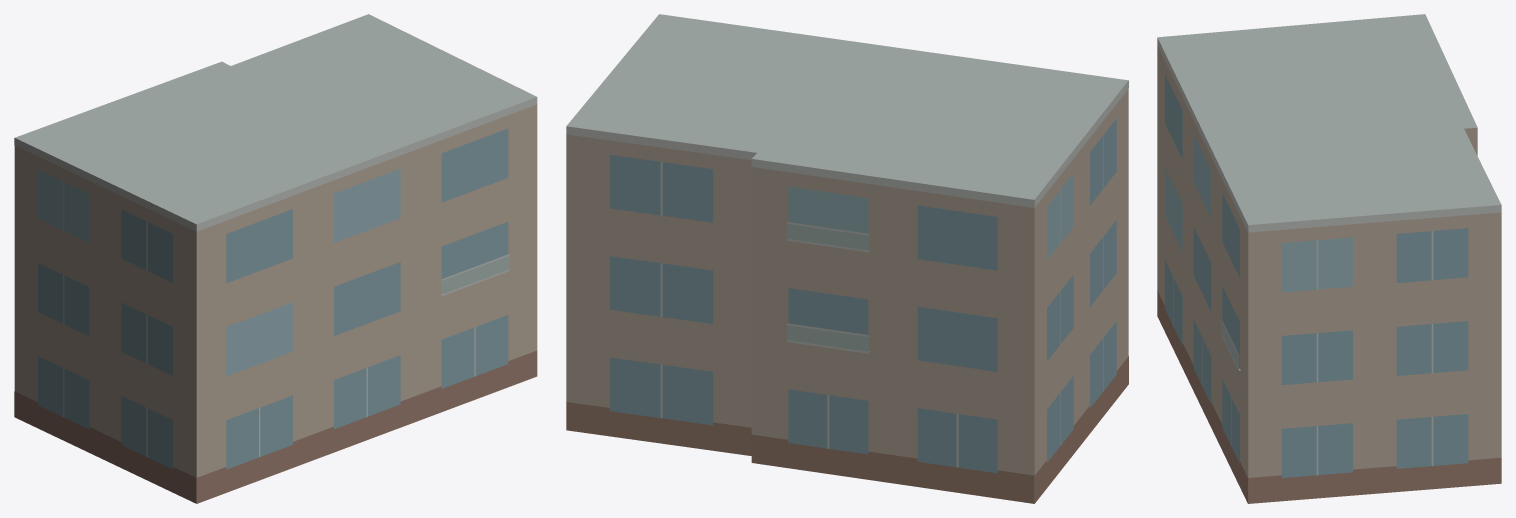
The model's file is survey-upis-32710148.glb.
3 renders of one model, left to right at view 1: azimuth 30°, elevation 25°; view 2: azimuth 150°, elevation 25°; view 3: azimuth 270°, elevation 25°, orthographic. The views are drawn at different scales.
Visible parts, largest first — view 1: survey-upis-32710148.tmp; view 2: survey-upis-32710148.tmp; view 3: survey-upis-32710148.tmp.
Boxes of the visible parts, x1,y1,x2,y2 form: survey-upis-32710148.tmp: [14, 14, 537, 503]; survey-upis-32710148.tmp: [566, 14, 1128, 503]; survey-upis-32710148.tmp: [1157, 14, 1501, 503].
Size of the model in its own units: 14.88 by 9.15 by 10.25.
